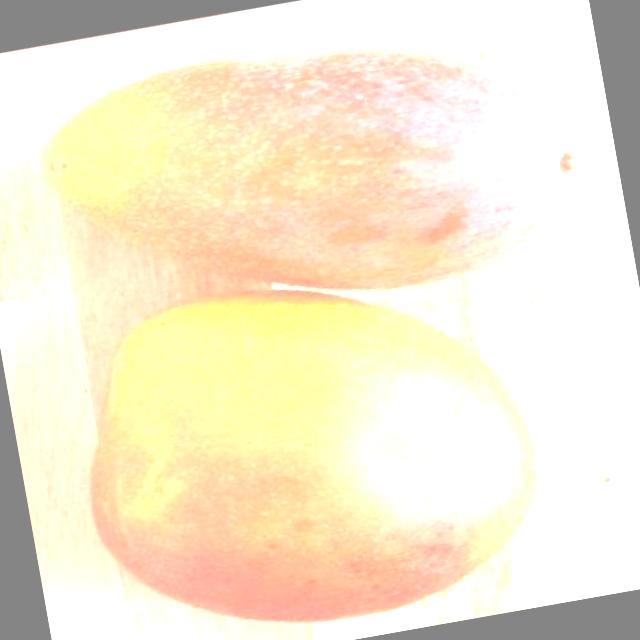Mango: (29, 0, 619, 348), (53, 242, 562, 640)
